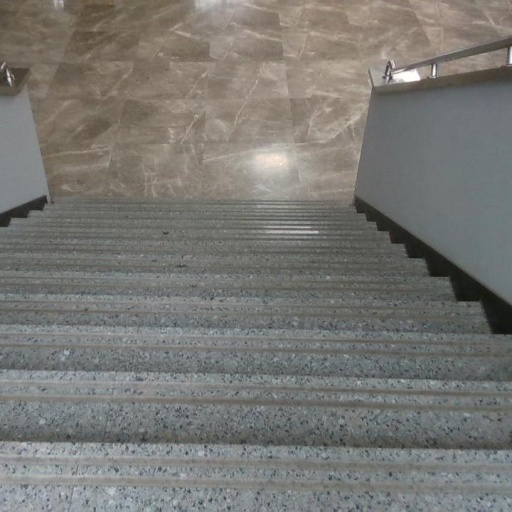Stairs: (0, 199, 512, 512)
